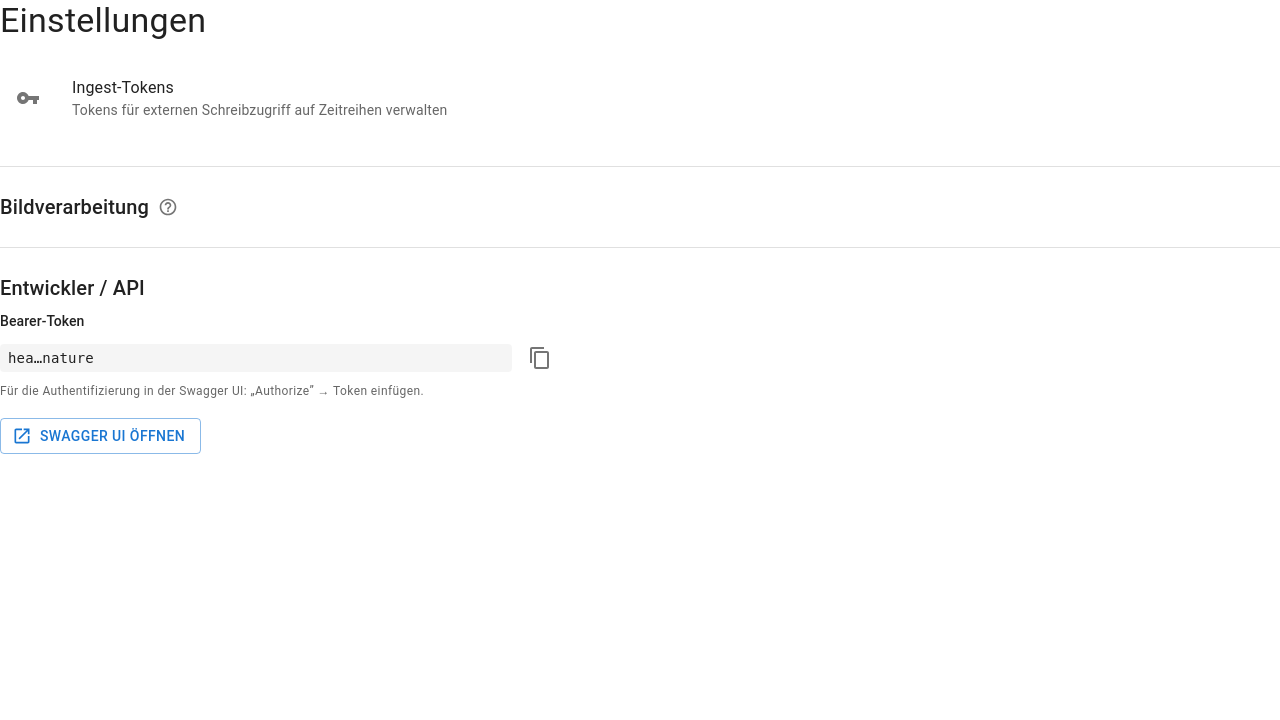
it: SettingsPage — Bildverarbeitung › schließt den Dialog beim Klick auf einen Tool-Link (#196)
Click the button named "Bildtools anzeigen".
click(168, 207)  # box [153,192,183,222]
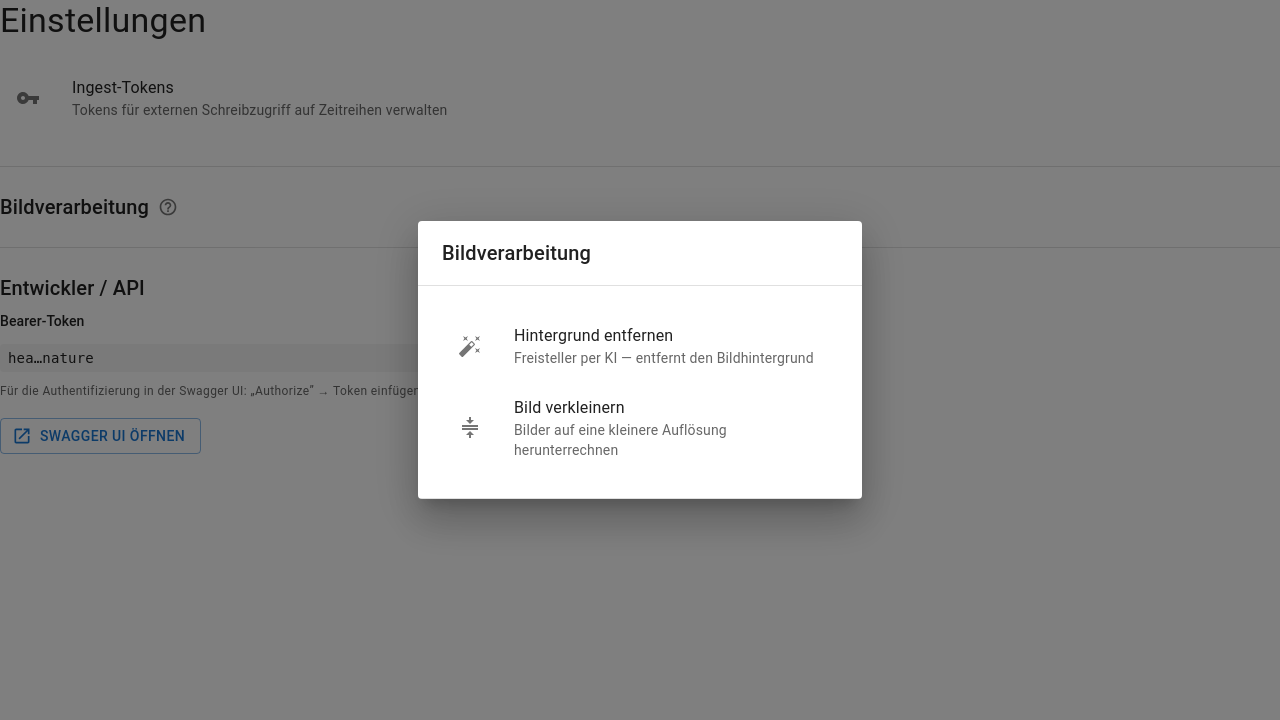
Click the link "Hintergrund entfernen".
click(636, 346)  # box [458,326,814,366]
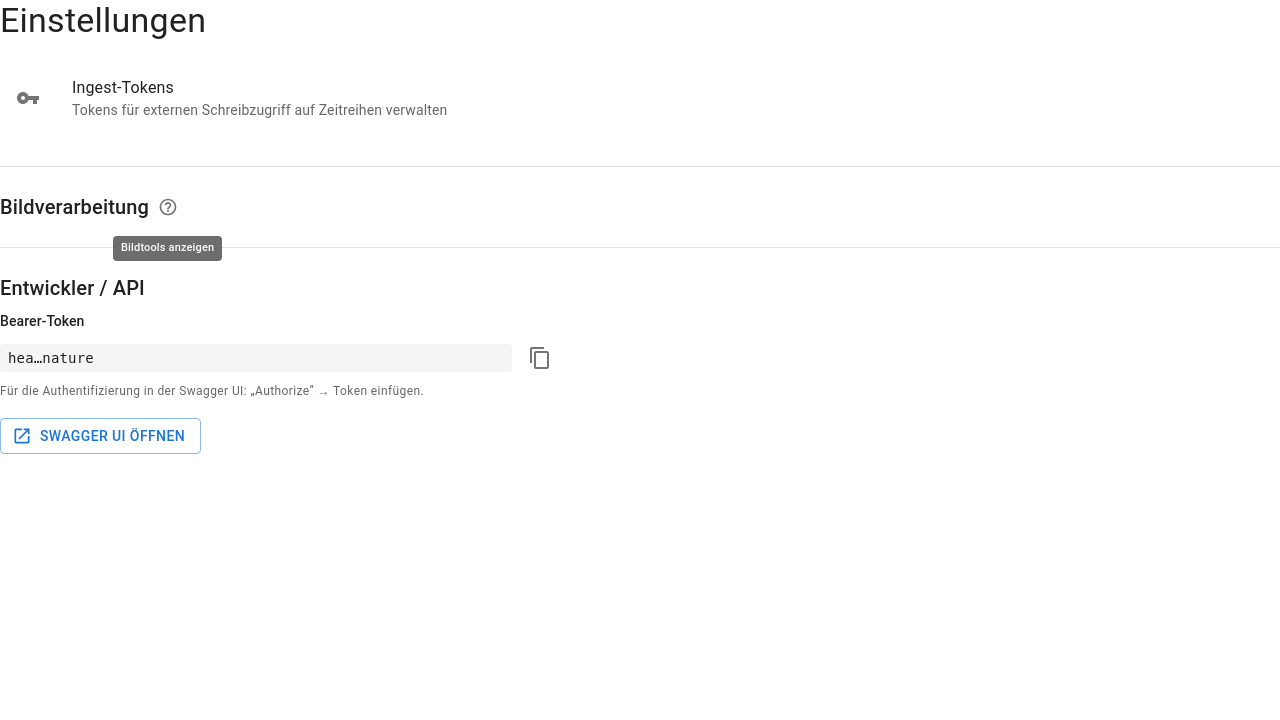
Expected: the link "Hintergrund entfernen" is gone
